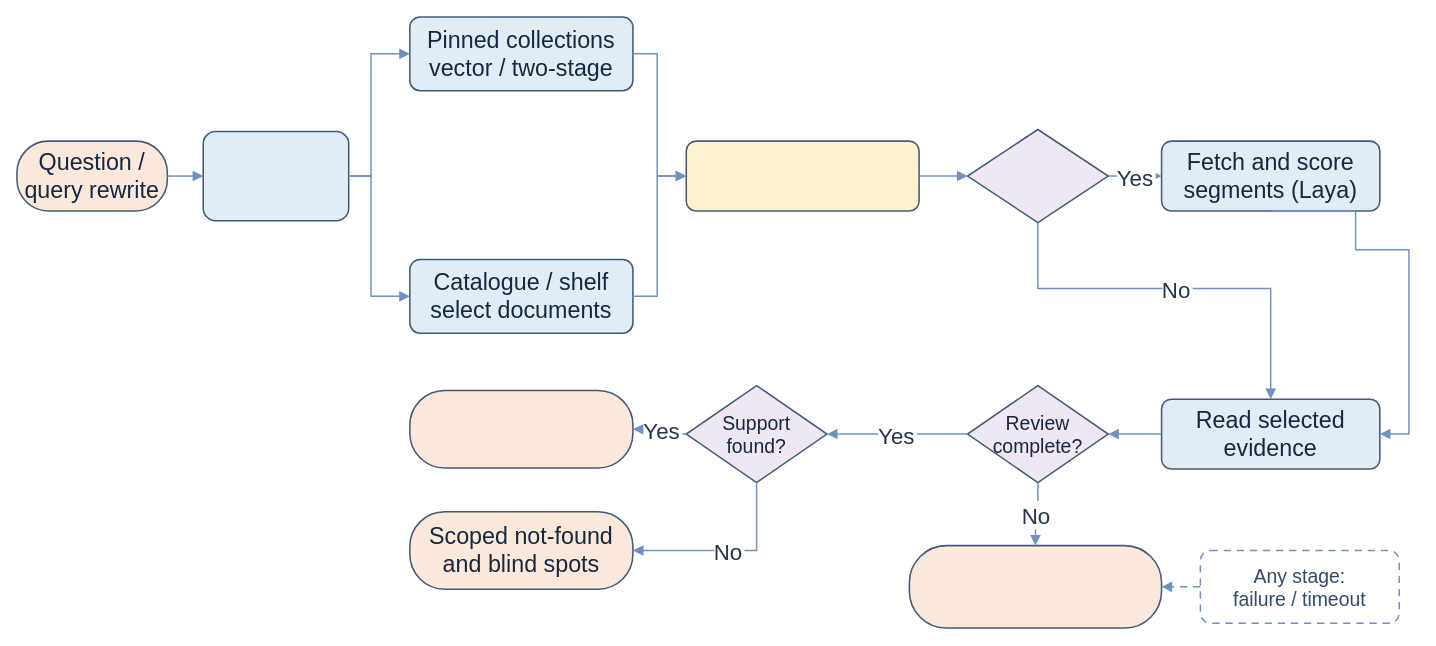
This 1436x646 diagram has some shape labels left out. The shapes that lost their labels are listed below. From the top down, each one's centre as x and y in pixels, then its label:
At point 275,175: "Select path(s) one or both".
At point 802,175: "Candidate references (optional merge / cap)".
At point 1037,175: "Use Laya gate?".
At point 521,428: "Answer with source references".
At point 1035,586: "Incomplete review: scope and available evidence".
